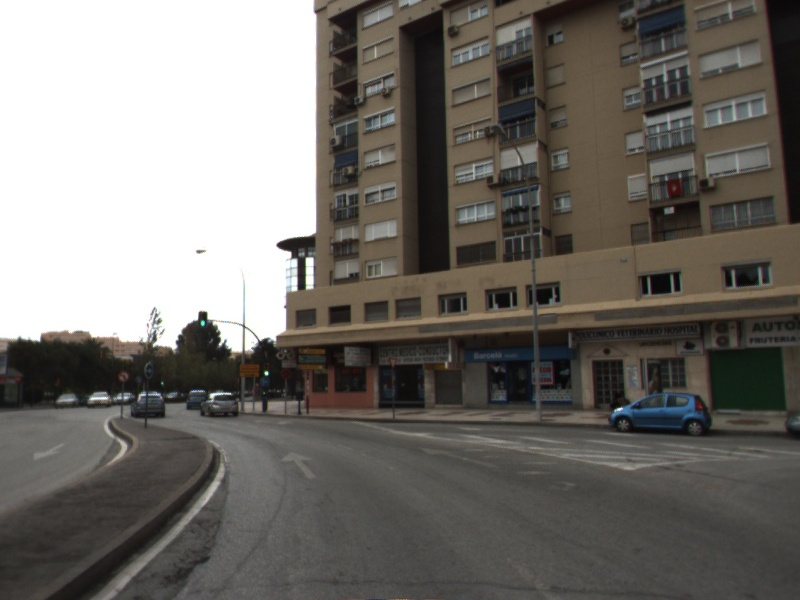STRAIGHT: (418, 445, 499, 470), (278, 449, 320, 481)
